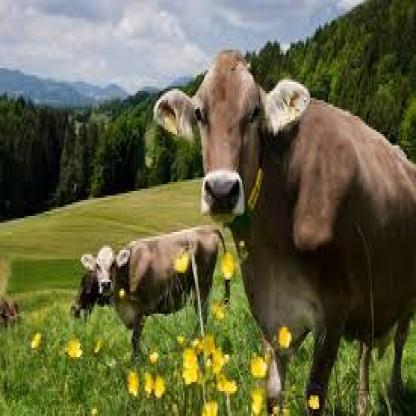cow: (154, 59, 416, 416), (82, 225, 218, 355)
